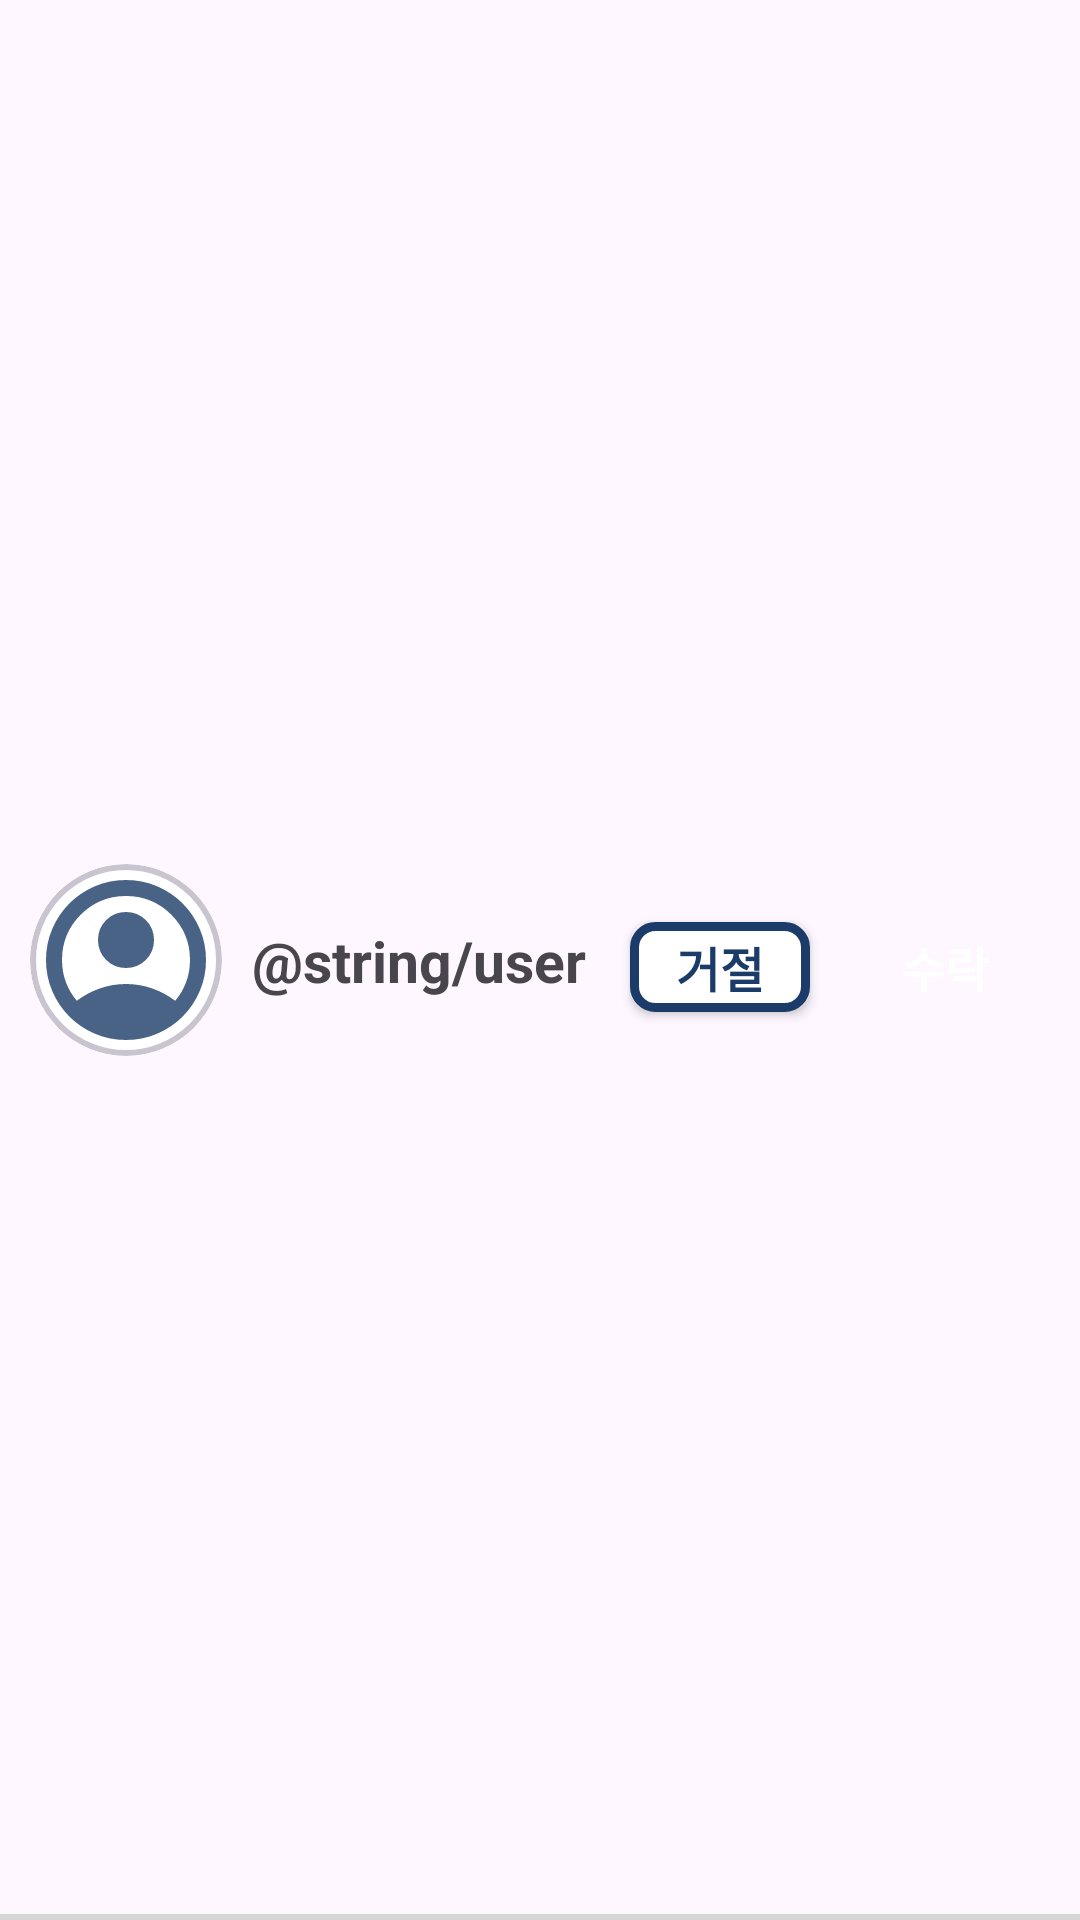

Icons on this 1080 × 1920 Android screen, each with the point to tap as point (x, y):
account circle: point (126, 960)
